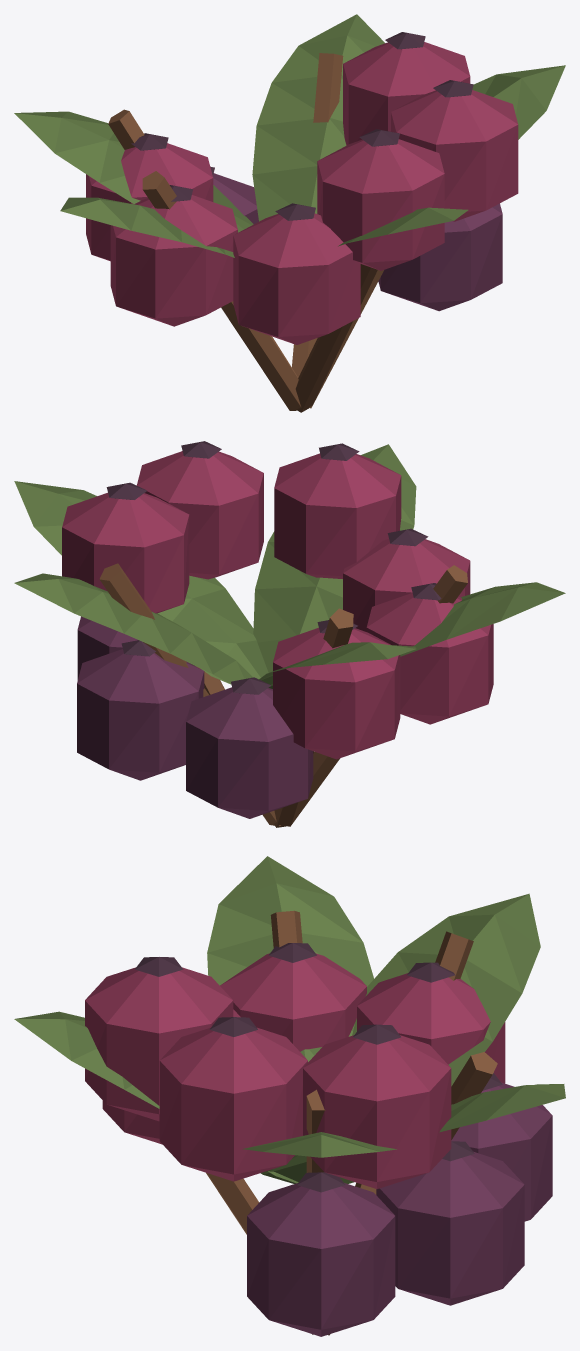
The model's file is wild_berry.glb.
The picture shows the model from 3 angles, top to bottom: view 1: azimuth 30°, elevation 25°; view 2: azimuth 150°, elevation 25°; view 3: azimuth 270°, elevation 25°; orthographic projection. The views are drawn at different scales.
Visible parts, largest first — view 1: wild_berry; view 2: wild_berry; view 3: wild_berry.
Part boxes in pixels (x1,y1,x2,y2): wild_berry: (14, 14, 565, 412); wild_berry: (14, 441, 565, 827); wild_berry: (14, 856, 565, 1336).
Bounding box in the file's own units: 0.4168 × 0.2458 × 0.3222.
